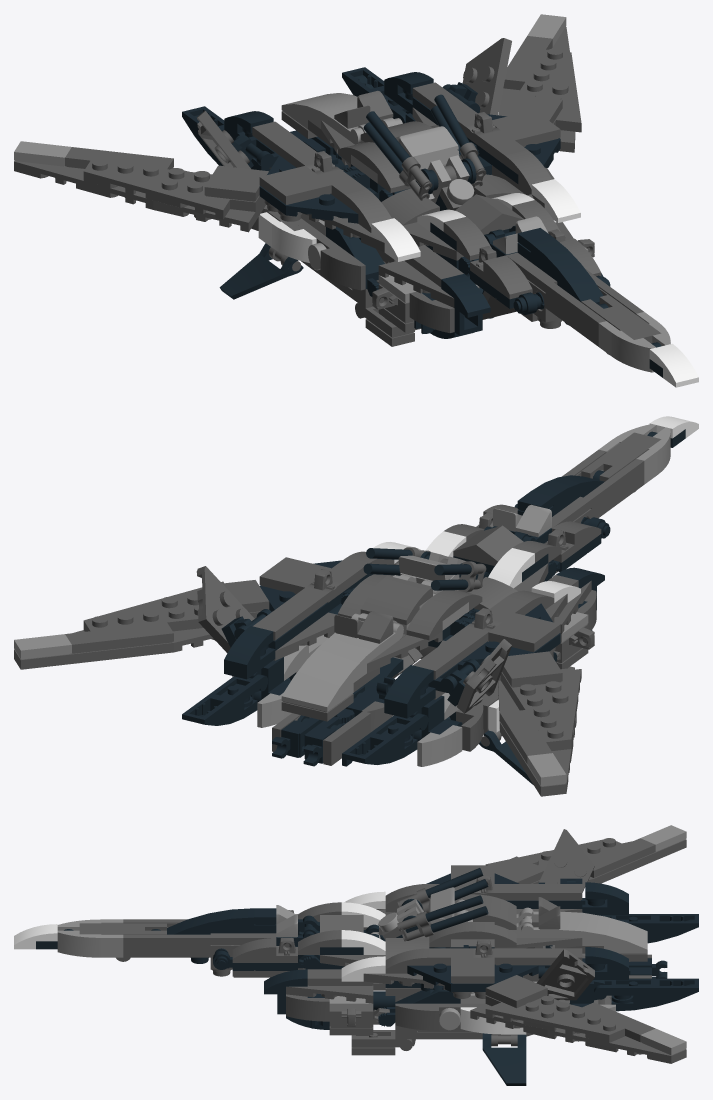
The model's file is vf-25-fighter.dae.
3 views of the same model, one above another, from view 1: azimuth 30°, elevation 25°; view 2: azimuth 150°, elevation 25°; view 3: azimuth 270°, elevation 25° (orthographic). The views are drawn at different scales.
Bounding box in the file's own units: 483 × 627 × 142.
